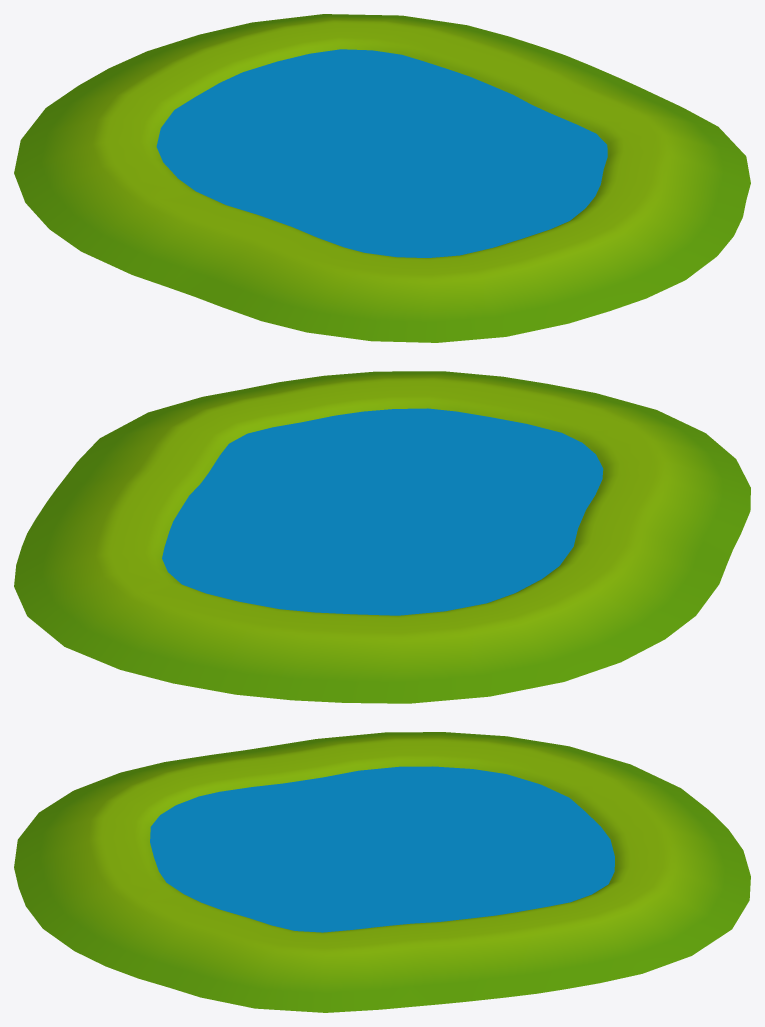
Rendered from Lake02.fbx.
3 views of the same model, one above another, from view 1: azimuth 30°, elevation 25°; view 2: azimuth 150°, elevation 25°; view 3: azimuth 270°, elevation 25° (orthographic). The views are drawn at different scales.
Visible parts, largest first — view 1: LOD0; view 2: LOD0; view 3: LOD0.
Part boxes in pixels (left/top/right/bottom): LOD0: left=14, top=14, right=750, bottom=342; LOD0: left=14, top=371, right=750, bottom=703; LOD0: left=14, top=732, right=750, bottom=1012.
Size of what is drawn, in the model's own units: 2440 by 2705 by 112.
